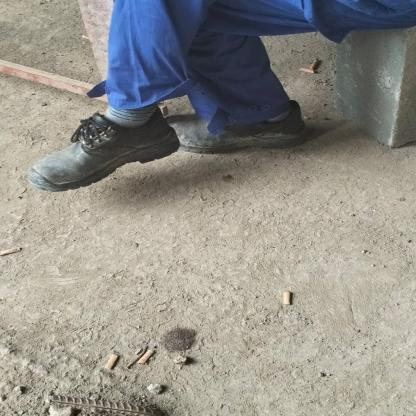bota: (32, 109, 180, 194), (168, 98, 309, 150)
